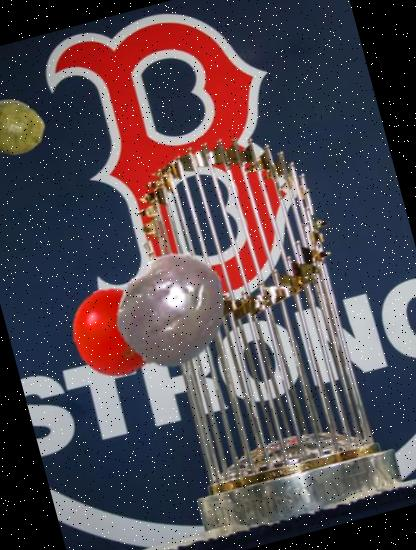Guava: (0, 89, 52, 166)
Passion: (100, 235, 247, 382)
Tomato: (58, 278, 169, 389)
